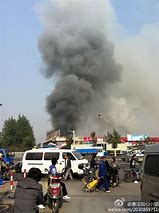smoke: (36, 3, 122, 130)
